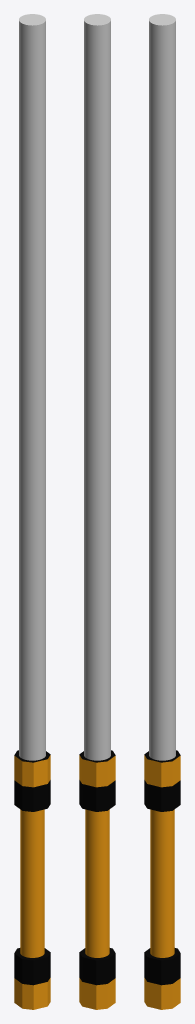
Rendered from LaserSword.fbx.
The picture shows the model from 3 angles, left to right: view 1: azimuth 30°, elevation 25°; view 2: azimuth 150°, elevation 25°; view 3: azimuth 330°, elevation 25°; orthographic projection.
Visible parts, largest first — view 1: cylinder (×2), socket_double; view 2: cylinder (×2), socket_double; view 3: cylinder (×2), socket_double.
Part boxes in pixels (box(x1,y1,x2,y2)): cylinder (×2): box(19, 14, 45, 957); socket_double: box(14, 750, 50, 1009); cylinder (×2): box(84, 14, 110, 957); socket_double: box(79, 750, 115, 1009); cylinder (×2): box(149, 14, 175, 957); socket_double: box(144, 750, 180, 1009).
Size of the model in its own units: 0.6 by 19.86 by 0.6.
